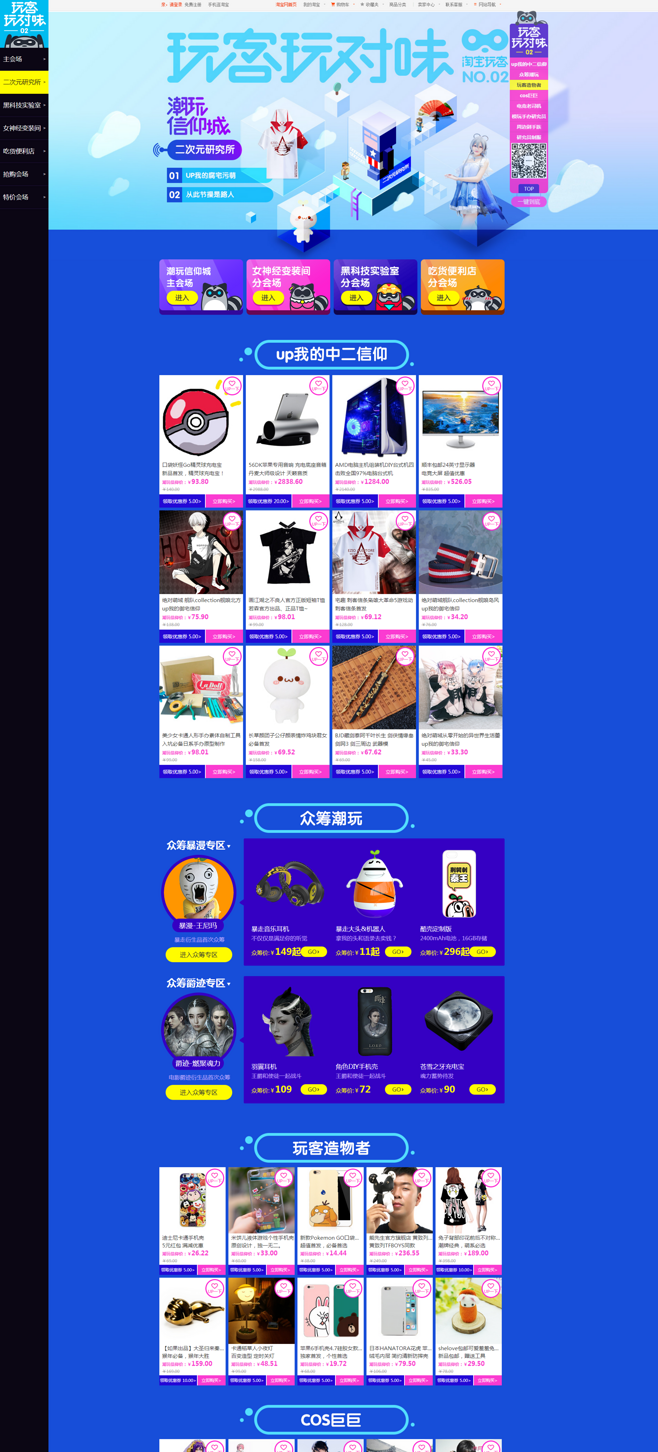floors: (50, 337, 658, 785), (50, 797, 658, 1107), (49, 1125, 658, 1392), (46, 257, 658, 320)
toutu: (49, 12, 658, 253)
